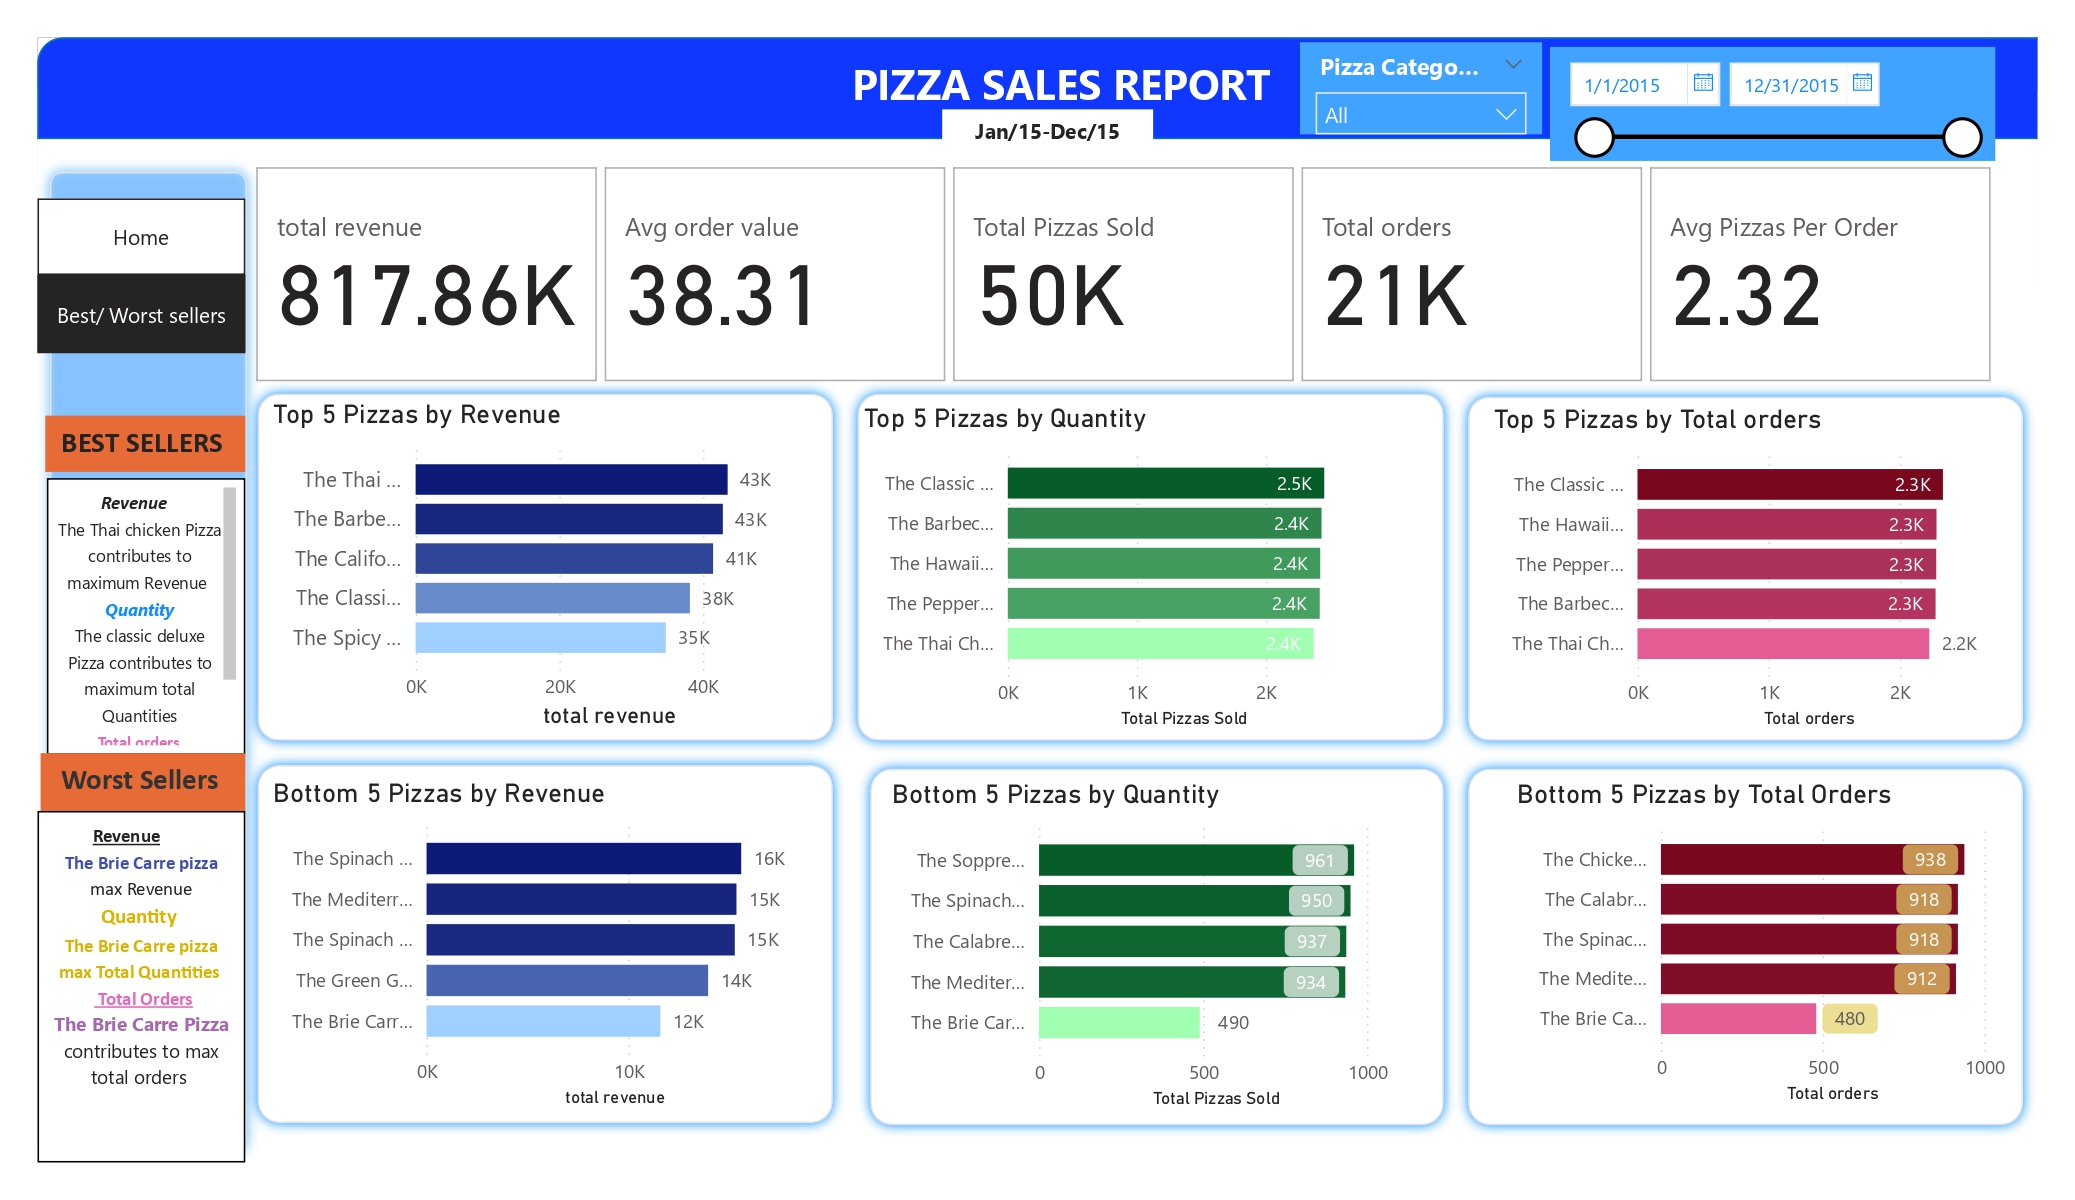

Layout of this report page (visuals, bound fields, positions):
{"tool":"powerbi","page":{"name":"Best/ Worst sellers","canvas":[1280,720],"ordinal":1},"visuals":[{"type":"cardVisual","fields":{"Data":["Pizza sales CSV file new.total revenue","Pizza sales CSV file new.Avg order value","Pizza sales CSV file new.Total Pizzas Sold","Pizza sales CSV file new.Total orders","Pizza sales CSV file new.Avg Pizzas Per Order"]},"box":[115,77.7,1164.2,147.3],"z":0},{"type":"shape","box":[0,0,1499.3,64.5],"z":1000},{"type":"textbox","box":[516.4,5.5,308,51.6],"z":2000},{"type":"textbox","box":[579.1,46.1,134.6,33.2],"z":3000},{"type":"shape","box":[132.8,220.2,383.8,238],"z":4000},{"type":"shape","box":[0,77.7,142.5,642.8],"z":5000},{"type":"textbox","box":[5,241.7,128.3,36.7],"z":6000},{"type":"textbox","box":[5.7,281.8,127.6,177.1],"z":7000},{"type":"textbox","box":[1.7,458.3,131.7,36.7],"z":8000},{"type":"textbox","box":[0,495,133.3,225],"z":9000},{"type":"slicer","fields":{"Values":["Pizza sales CSV file new.pizza_category"]},"box":[808.3,3.3,155,58.3],"z":10000},{"type":"slicer","fields":{"Values":["Pizza sales CSV file new.order_date"]},"box":[968.3,6.5,285,72.9],"z":11000},{"type":"shape","box":[516.5,220.2,391.9,238],"z":12000},{"type":"shape","box":[908.4,221.8,370.8,236.4],"z":13000},{"type":"shape","box":[132.8,458.2,383.8,244.5],"z":14000},{"type":"shape","box":[524.6,459.9,383.8,244.5],"z":15000},{"type":"shape","box":[908.4,459.9,370.8,244.5],"z":16000},{"type":"barChart","title":"Top 5 Pizzas by Revenue ","fields":{"Category":["Pizza sales CSV file new.pizza_name"],"Y":["Pizza sales CSV file new.total revenue"]},"box":[145.7,230.9,359.6,215.8],"z":17000},{"type":"barChart","title":"Bottom 5 Pizzas by Revenue","fields":{"Category":["Pizza sales CSV file new.pizza_name"],"Y":["Pizza sales CSV file new.total revenue"]},"box":[145.7,473.1,359.6,215.8],"z":18000},{"type":"barChart","title":"Top 5 Pizzas by Quantity","fields":{"Category":["Pizza sales CSV file new.pizza_name"],"Y":["Pizza sales CSV file new.Total Pizzas Sold"]},"box":[524.2,232.8,335,213.9],"z":19000},{"type":"barChart","title":"Bottom 5 Pizzas by Quantity","fields":{"Category":["Pizza sales CSV file new.pizza_name"],"Y":["Pizza sales CSV file new.Total Pizzas Sold"]},"box":[542.4,474.3,343.9,215.4],"z":20000},{"type":"barChart","title":"Top 5 Pizzas by Total orders","fields":{"Category":["Pizza sales CSV file new.pizza_name"],"Y":["Pizza sales CSV file new.Total orders"]},"box":[927.2,234.2,335.1,213.2],"z":21000},{"type":"barChart","title":"Bottom 5 Pizzas by Total Orders","fields":{"Category":["Pizza sales CSV file new.pizza_name"],"Y":["Pizza sales CSV file new.Total orders"]},"box":[942.4,474.1,335.1,213.2],"z":22000},{"type":"pageNavigator","box":[0,152.3,133.3,49.5],"z":23000},{"type":"pageNavigator","box":[0,102.8,133.3,49.5],"z":24000}]}

Visuals, with their boxes in screenshot pixels (x1, y1, x2, y2):
cardVisual - Pizza sales CSV file new.total revenue x Pizza sales CSV file new.Avg order value: (x1=217, y1=159, x2=2036, y2=389)
shape: (x1=38, y1=38, x2=2038, y2=138)
textbox: (x1=844, y1=46, x2=1326, y2=127)
textbox: (x1=942, y1=110, x2=1153, y2=161)
shape: (x1=245, y1=382, x2=845, y2=753)
shape: (x1=38, y1=159, x2=260, y2=1162)
textbox: (x1=45, y1=415, x2=246, y2=472)
textbox: (x1=46, y1=478, x2=246, y2=755)
textbox: (x1=40, y1=754, x2=246, y2=811)
textbox: (x1=38, y1=811, x2=246, y2=1162)
slicer - Pizza sales CSV file new.pizza_category: (x1=1300, y1=43, x2=1543, y2=134)
slicer - Pizza sales CSV file new.order_date: (x1=1550, y1=48, x2=1996, y2=162)
shape: (x1=845, y1=382, x2=1457, y2=753)
shape: (x1=1457, y1=384, x2=2036, y2=753)
shape: (x1=245, y1=753, x2=845, y2=1135)
shape: (x1=857, y1=756, x2=1457, y2=1138)
shape: (x1=1457, y1=756, x2=2036, y2=1138)
"Top 5 Pizzas by Revenue " barChart: (x1=265, y1=398, x2=827, y2=735)
"Bottom 5 Pizzas by Revenue" barChart: (x1=265, y1=777, x2=827, y2=1114)
"Top 5 Pizzas by Quantity" barChart: (x1=857, y1=401, x2=1380, y2=735)
"Bottom 5 Pizzas by Quantity" barChart: (x1=885, y1=779, x2=1422, y2=1115)
"Top 5 Pizzas by Total orders" barChart: (x1=1486, y1=403, x2=2010, y2=737)
"Bottom 5 Pizzas by Total Orders" barChart: (x1=1510, y1=778, x2=2034, y2=1111)
pageNavigator: (x1=38, y1=275, x2=246, y2=353)
pageNavigator: (x1=38, y1=198, x2=246, y2=275)
